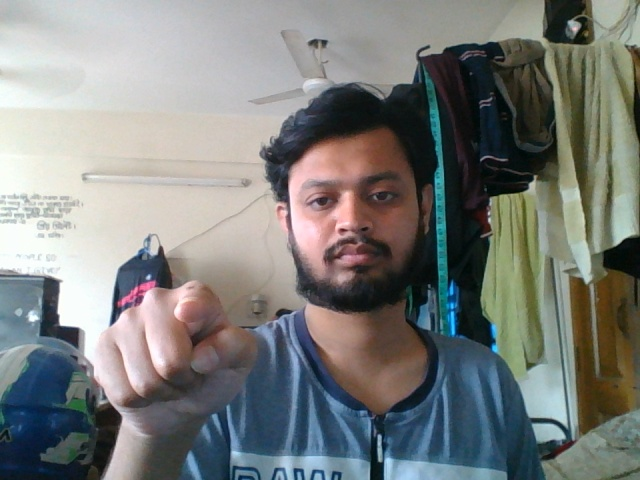tumi: (84, 273, 274, 460)
